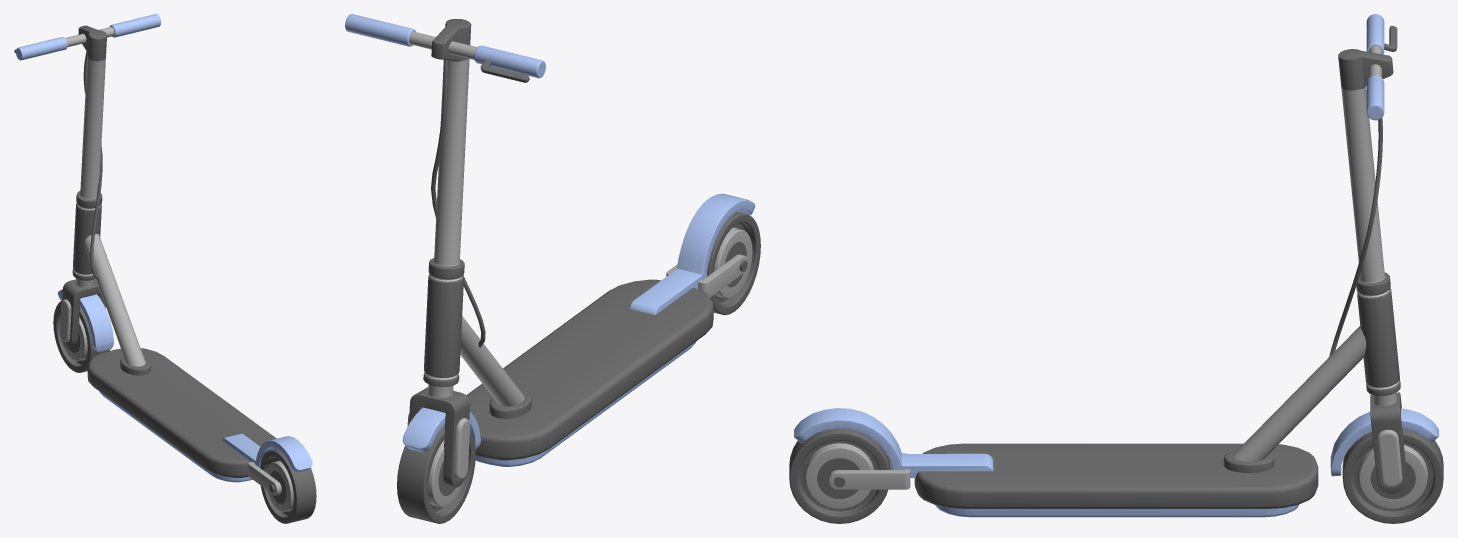
File: Trottinette.fbx
The picture shows the model from 3 angles, left to right: view 1: azimuth 30°, elevation 25°; view 2: azimuth 150°, elevation 25°; view 3: azimuth 270°, elevation 25°; orthographic projection. The views are drawn at different scales.
Visible parts, largest first — view 1: Cylinder; view 2: Cylinder; view 3: Cylinder.
Part boxes in pixels (x1,y1,x2,y2): Cylinder: (14,14,316,523); Cylinder: (345,14,760,523); Cylinder: (789,14,1443,523).
Size of the model in its own units: 195 by 464 by 592.
